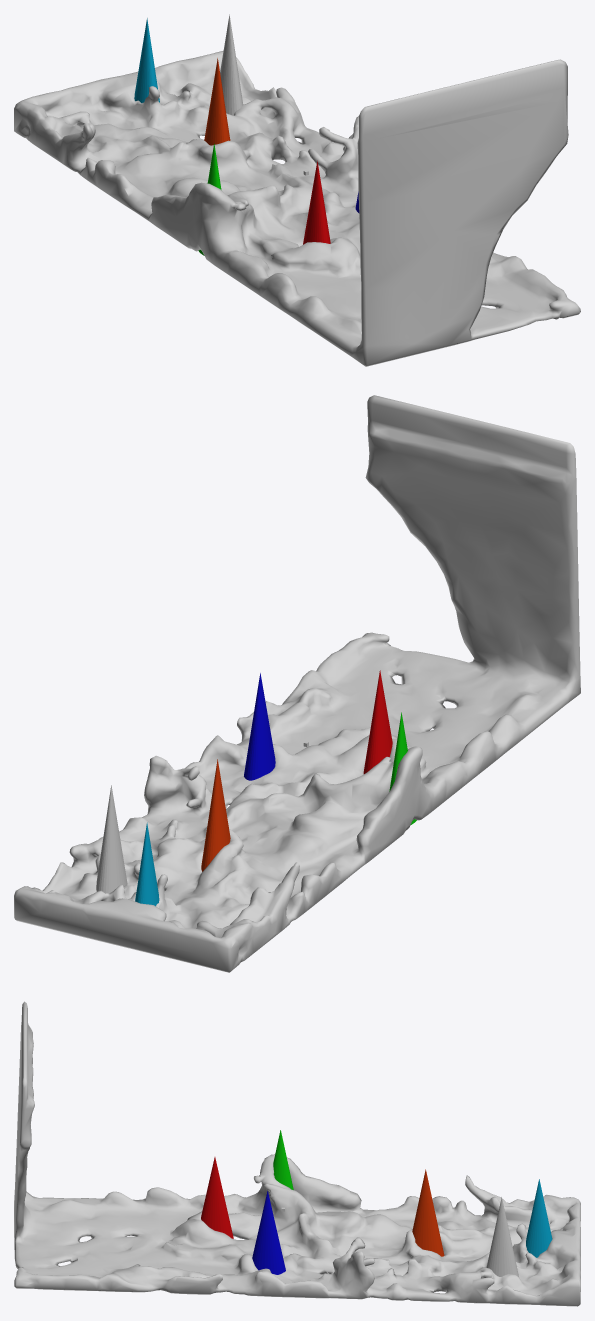
3 renders of one model, top to bottom at view 1: azimuth 30°, elevation 25°; view 2: azimuth 150°, elevation 25°; view 3: azimuth 270°, elevation 25°, orthographic. The views are drawn at different scales.
Visible parts, largest first — view 1: Liquid_Domain, 円錐, 円錐.004, 円錐.001, 円錐.005; view 2: Liquid_Domain, 円錐.002, 円錐, 円錐.004, 円錐.001, 円錐.005; view 3: Liquid_Domain, 円錐.002, 円錐.004, 円錐, 円錐.001, 円錐.005, 円錐.003.
Part boxes in pixels (x1,y1,x2,y2): Liquid_Domain: [14, 50, 580, 366]; 円錐: [220, 14, 243, 115]; 円錐.004: [204, 58, 230, 145]; 円錐.001: [303, 160, 330, 244]; 円錐.005: [134, 18, 159, 103]; Liquid_Domain: [14, 395, 580, 972]; 円錐.002: [244, 673, 275, 780]; 円錐: [96, 785, 127, 893]; 円錐.004: [201, 759, 230, 871]; 円錐.001: [363, 670, 392, 773]; 円錐.005: [135, 822, 159, 906]; Liquid_Domain: [14, 1001, 580, 1306]; 円錐.002: [252, 1191, 285, 1274]; 円錐.004: [412, 1169, 444, 1256]; 円錐: [486, 1197, 518, 1276]; 円錐.001: [201, 1157, 233, 1238]; 円錐.005: [526, 1179, 552, 1257]; 円錐.003: [273, 1130, 293, 1189].
Size of the model in its own units: 129 by 158 by 361.
